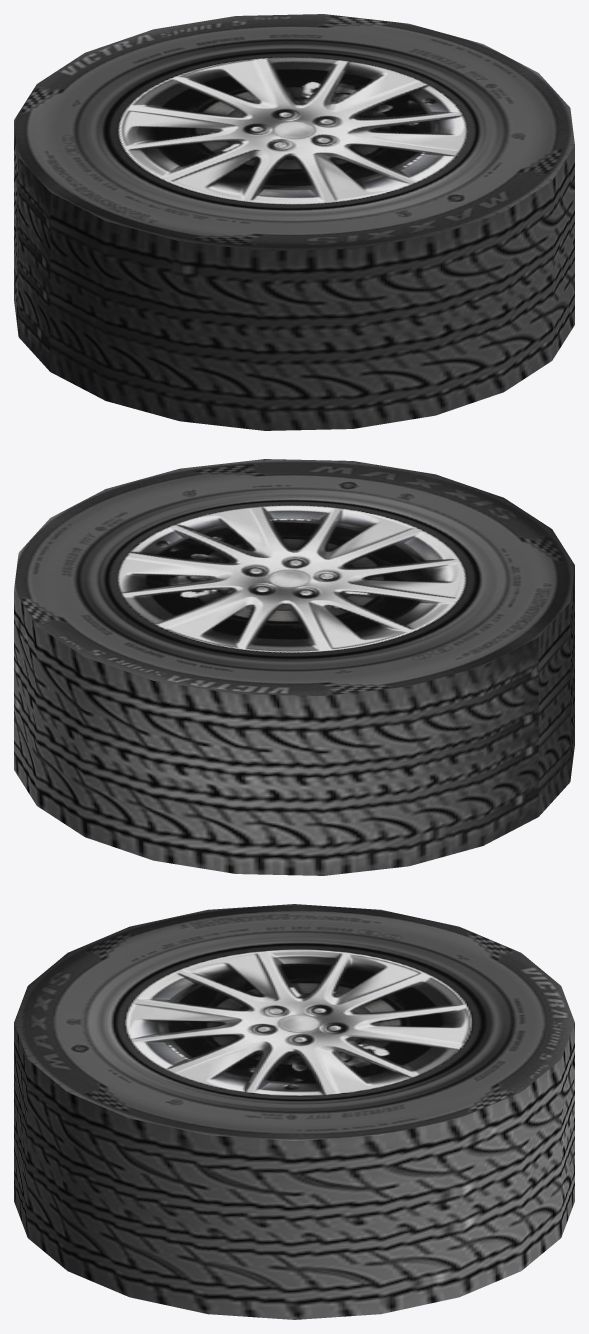
File: TrimmedTire2 1.fbx
3 renders of one model, top to bottom at view 1: azimuth 30°, elevation 25°; view 2: azimuth 150°, elevation 25°; view 3: azimuth 270°, elevation 25°, orthographic.
Parts seen in each view (by area): view 1: pCylinder1; view 2: pCylinder1; view 3: pCylinder1.
Boxes of the visible parts, bbox=[...] form: pCylinder1: bbox=[14, 14, 574, 430]; pCylinder1: bbox=[14, 459, 574, 875]; pCylinder1: bbox=[14, 904, 574, 1319].
Size of the model in its own units: 73.42 by 25.83 by 73.42.
